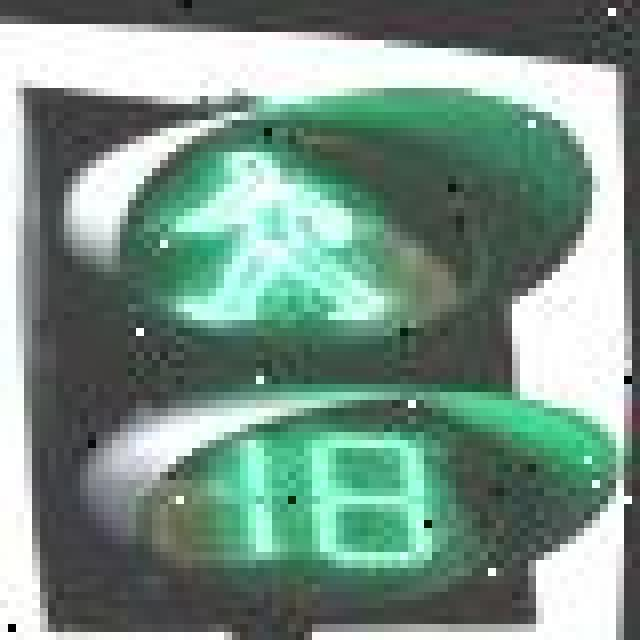greenlight: (80, 0, 608, 368)
